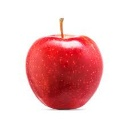apple: (24, 32, 105, 110)
